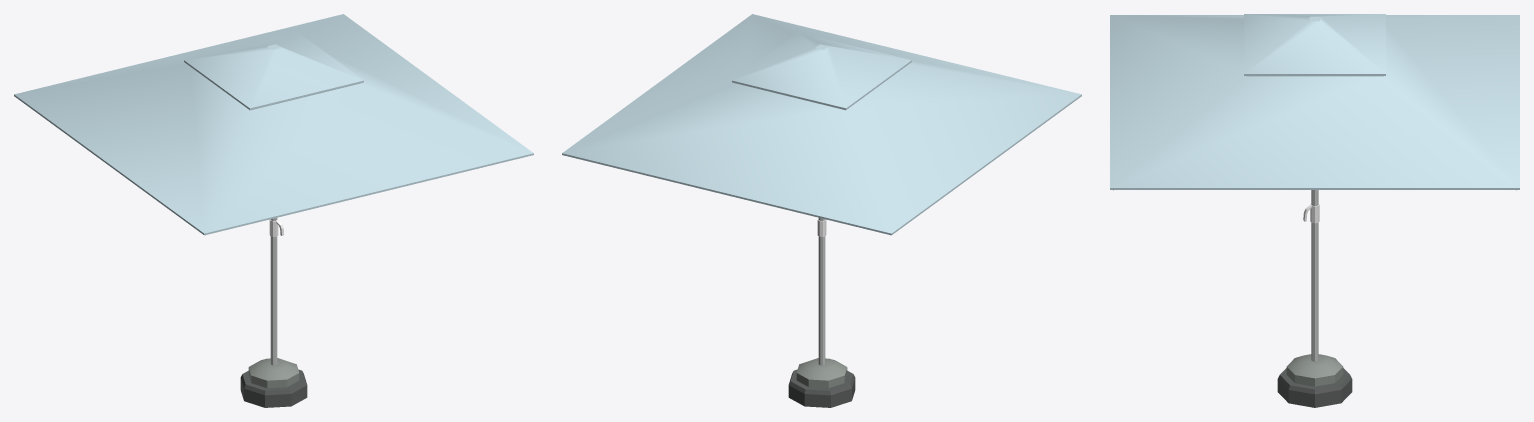
Rendered from Umbrella_02.glb.
The picture shows the model from 3 angles, left to right: view 1: azimuth 30°, elevation 25°; view 2: azimuth 150°, elevation 25°; view 3: azimuth 270°, elevation 25°; orthographic projection. The views are drawn at different scales.
Parts seen in each view (by area): view 1: Umbrella_02; view 2: Umbrella_02; view 3: Umbrella_02.
Boxes of the visible parts, bbox=[...] form: Umbrella_02: bbox=[14, 14, 533, 407]; Umbrella_02: bbox=[562, 14, 1081, 407]; Umbrella_02: bbox=[1110, 14, 1519, 407].
Size of what is drawn, in the model's own units: 2.78 by 2.8 by 2.78.
1 material, 1 textured.
